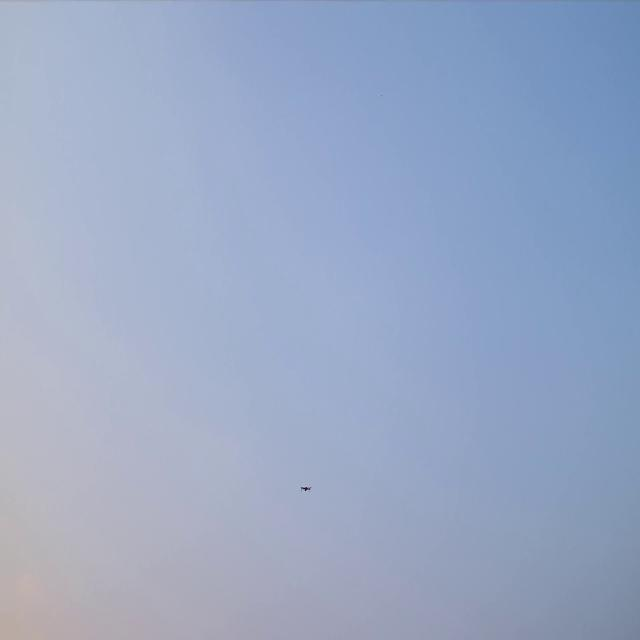UAV: (300, 483, 312, 493)
